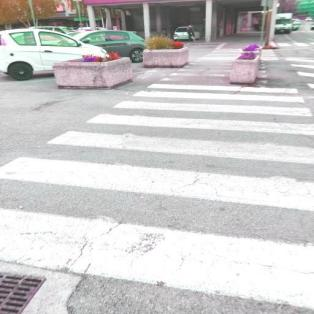Paso de Cebra: (2, 153, 314, 310), (106, 89, 314, 122)
